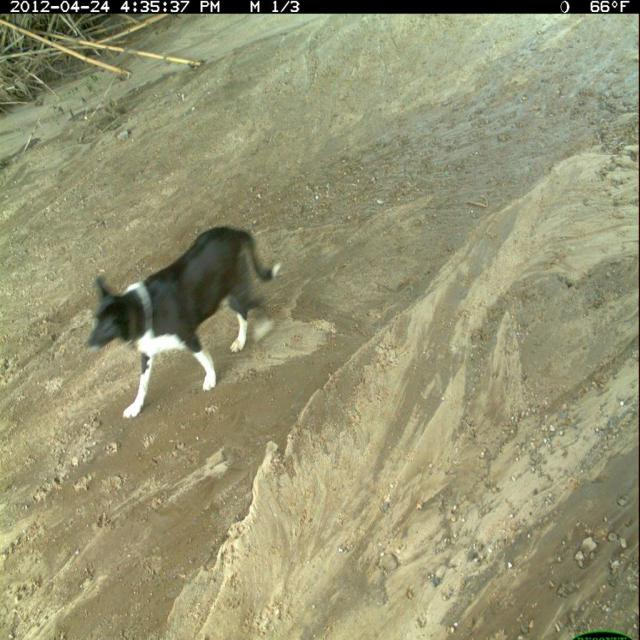dog: (83, 223, 283, 425)
